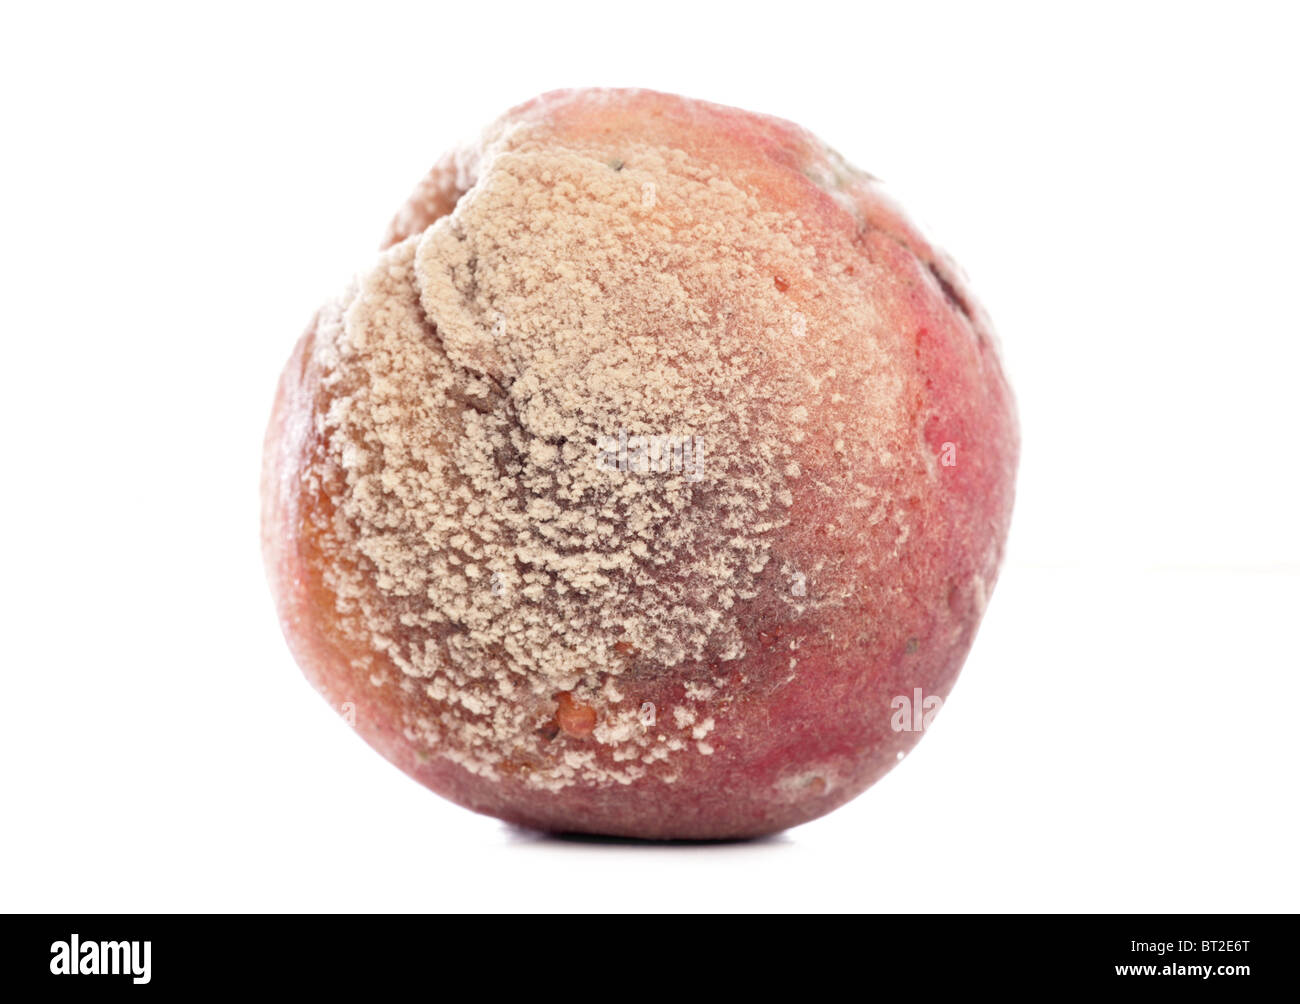peach: (256, 89, 1018, 845)
rotten: (312, 133, 916, 781)
